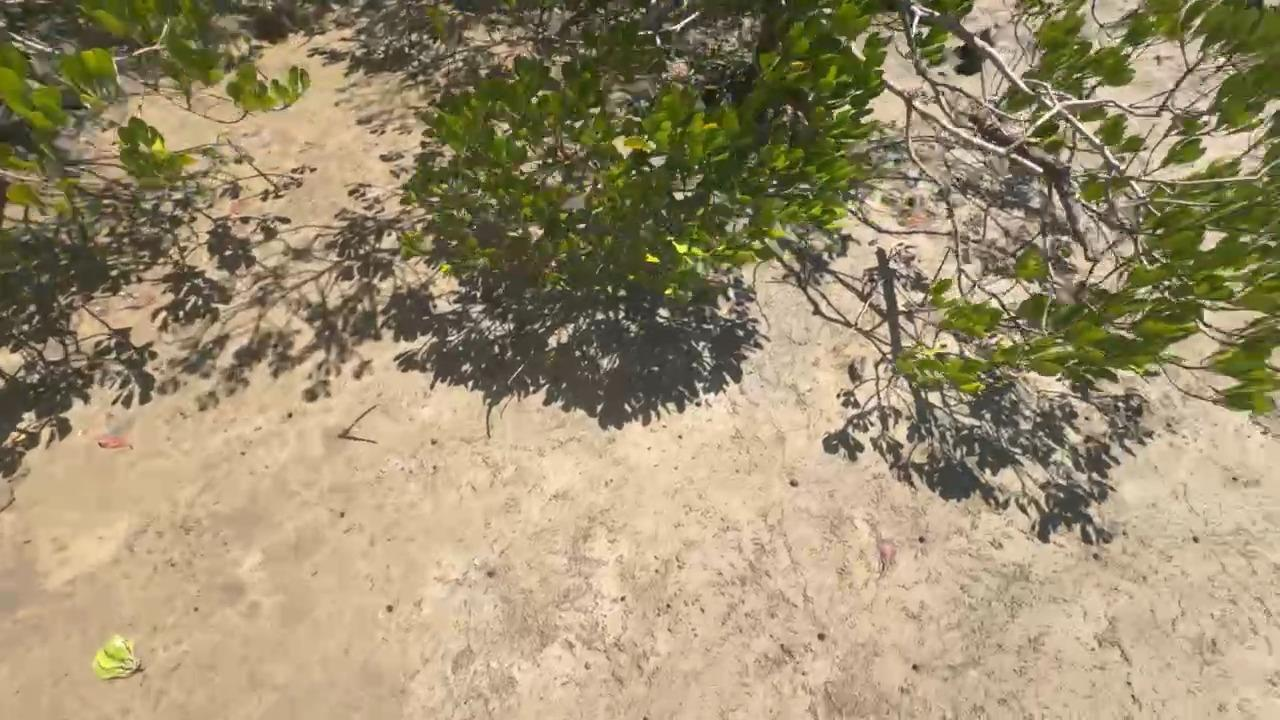Tree: (338, 404, 377, 439)
